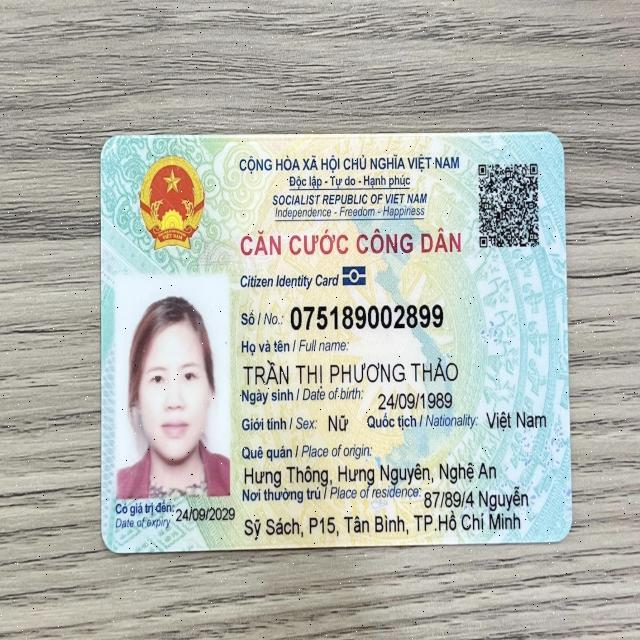current_place: (243, 509, 522, 541), (423, 485, 530, 513)
dob: (373, 386, 453, 411)
expire_date: (173, 505, 238, 521)
gender: (324, 408, 354, 432)
id: (285, 299, 447, 330)
name: (245, 354, 461, 382)
nationality: (483, 398, 550, 431)
origin_place: (243, 460, 499, 486)
qr: (474, 157, 545, 253)
